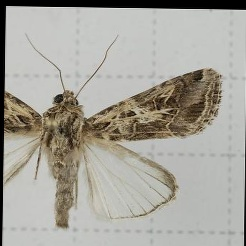Spodoptera litura: (4, 32, 224, 229)
